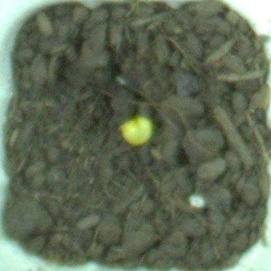chilli seed: (117, 115, 154, 147)
